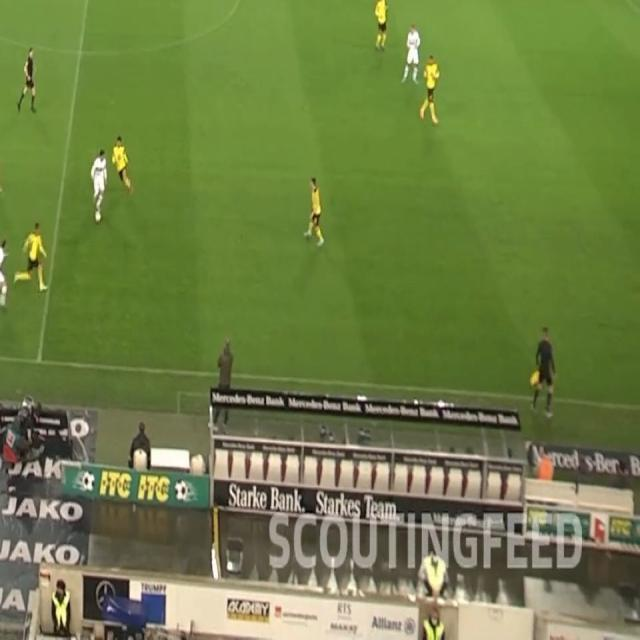ball: (95, 209, 102, 223)
